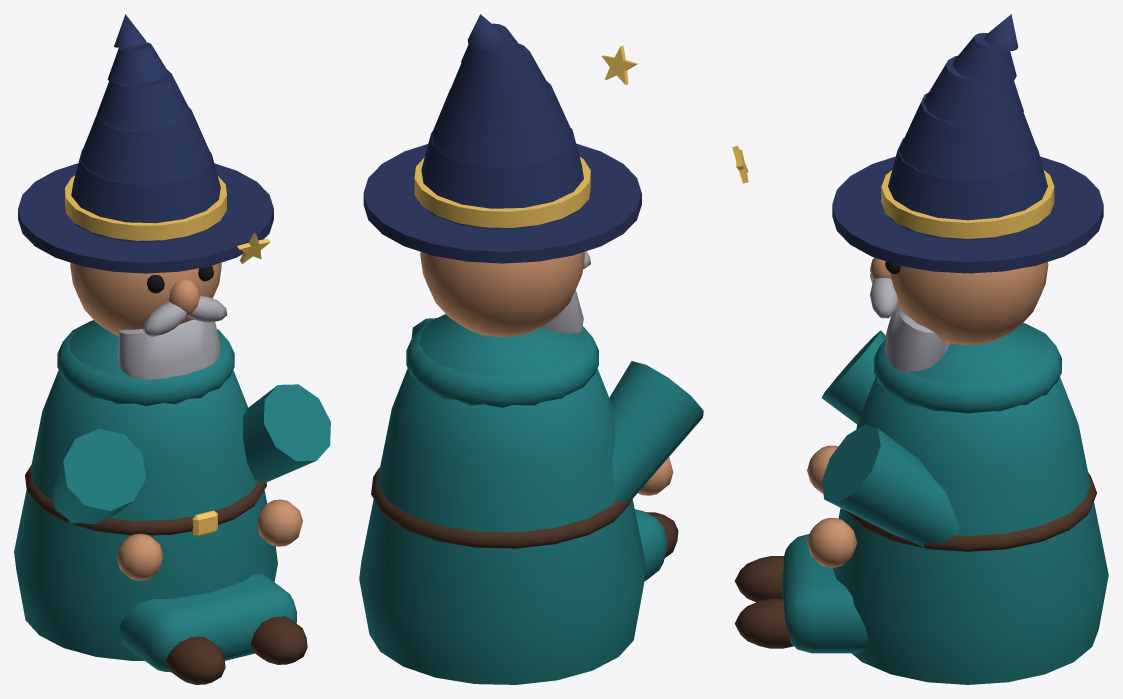
The model's file is magic_wizard_teal.glb.
3 views of the same model, side by side, from view 1: azimuth 30°, elevation 25°; view 2: azimuth 150°, elevation 25°; view 3: azimuth 270°, elevation 25° (orthographic). The views are drawn at different scales.
Parts seen in each view (by area): view 1: magic_wizard_teal; view 2: magic_wizard_teal; view 3: magic_wizard_teal.
Part boxes in pixels (x1,y1,x2,y2): magic_wizard_teal: [14, 14, 330, 684]; magic_wizard_teal: [359, 14, 703, 684]; magic_wizard_teal: [732, 14, 1108, 684].
Size of the model in its own units: 0.6432 by 1.35 by 0.7487.
